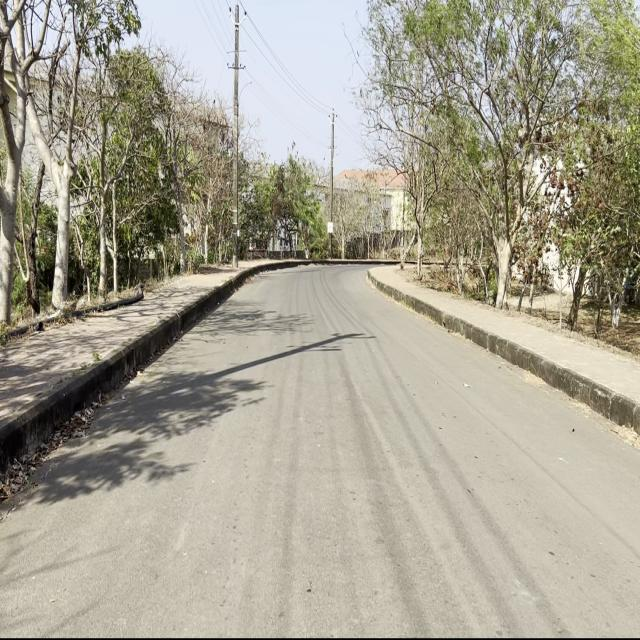Road: (4, 266, 637, 631)
